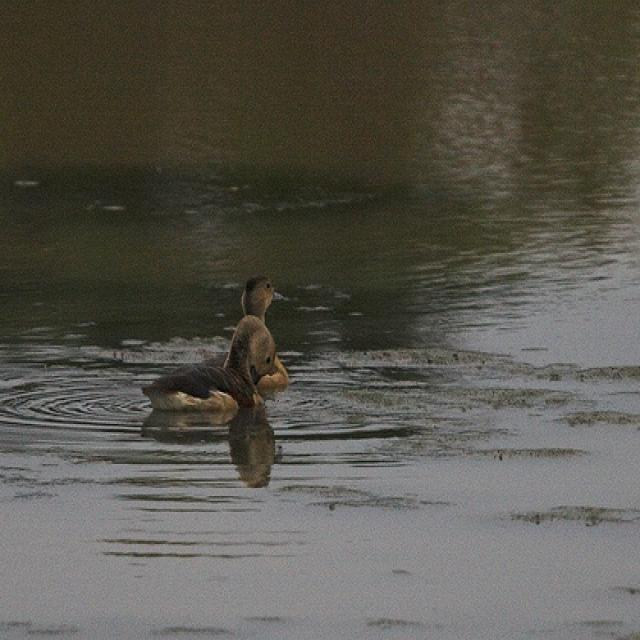bird: (141, 317, 279, 413), (237, 277, 290, 395)
